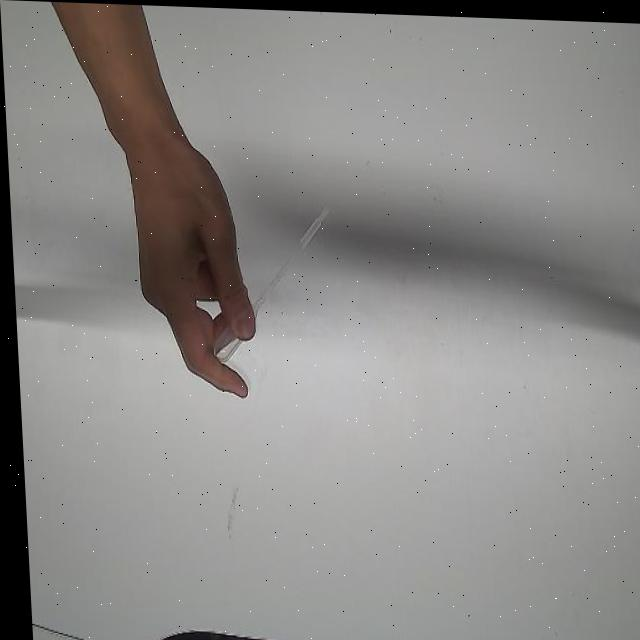Disposable Pasteur Pipette - Sealed: (201, 189, 342, 366)
